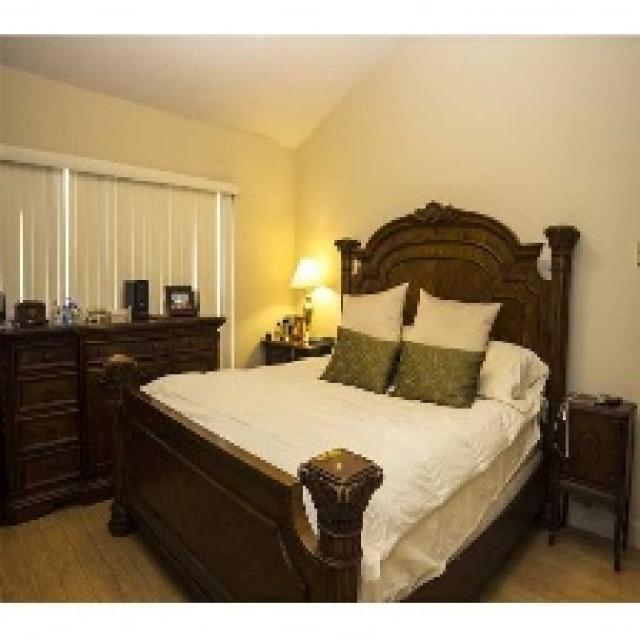Bed: (103, 197, 580, 600)
